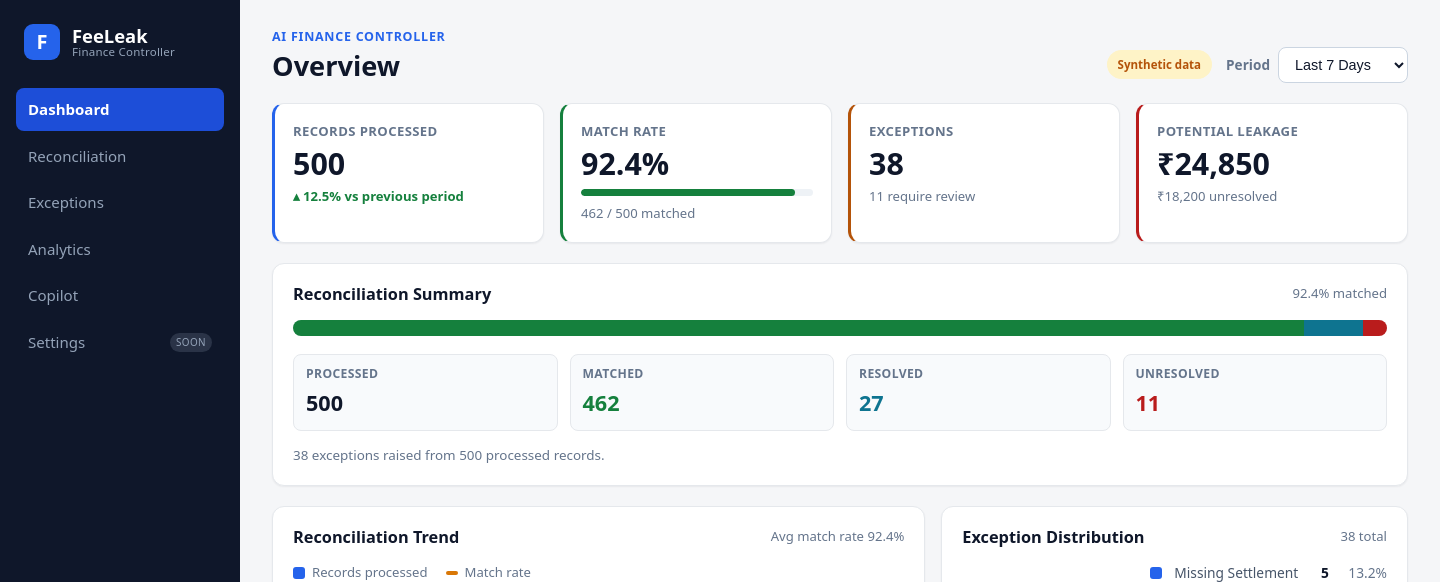
Test: Finance Controller Dashboard › updates metrics when the period changes to Last 30 Days
This screenshot has width=1440, height=582.
Select "Last 30 Days" in the dropdown labelled "Period" at (1343, 65), box 1278,47 -> 1408,83
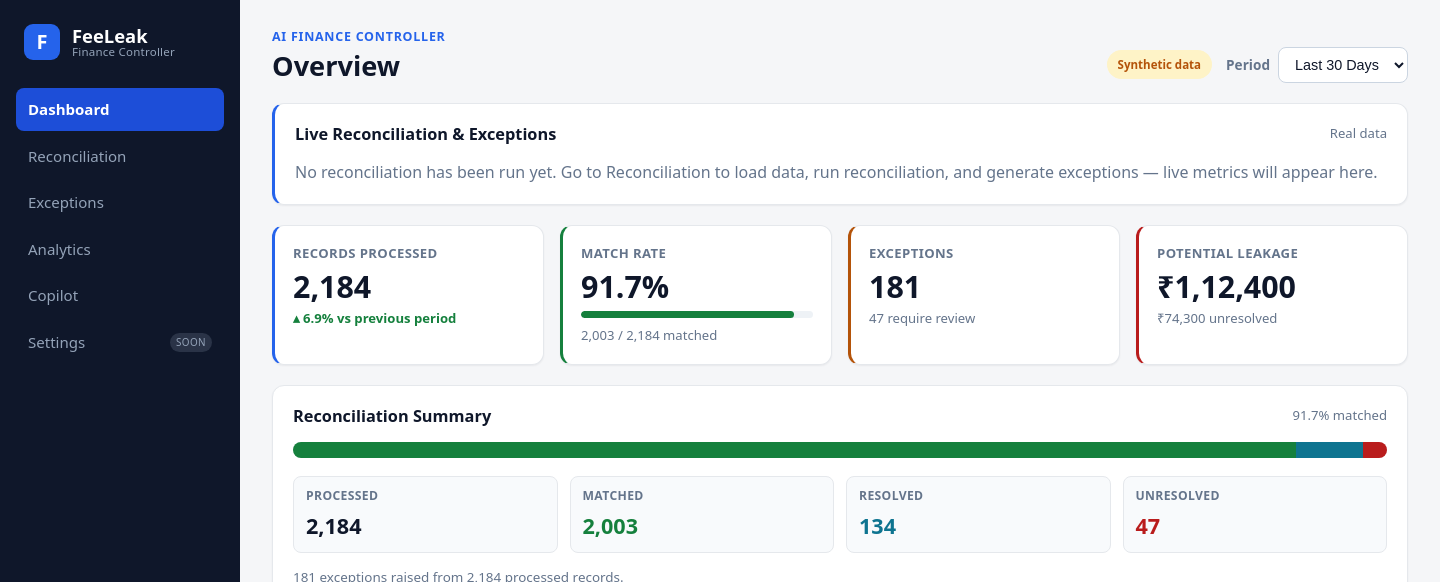
expect the element with test id "kpi-records" shows "2,184": met, box 293,266 -> 371,307
expect the element with test id "kpi-match" shows "91.7%": met, box 581,266 -> 669,307
